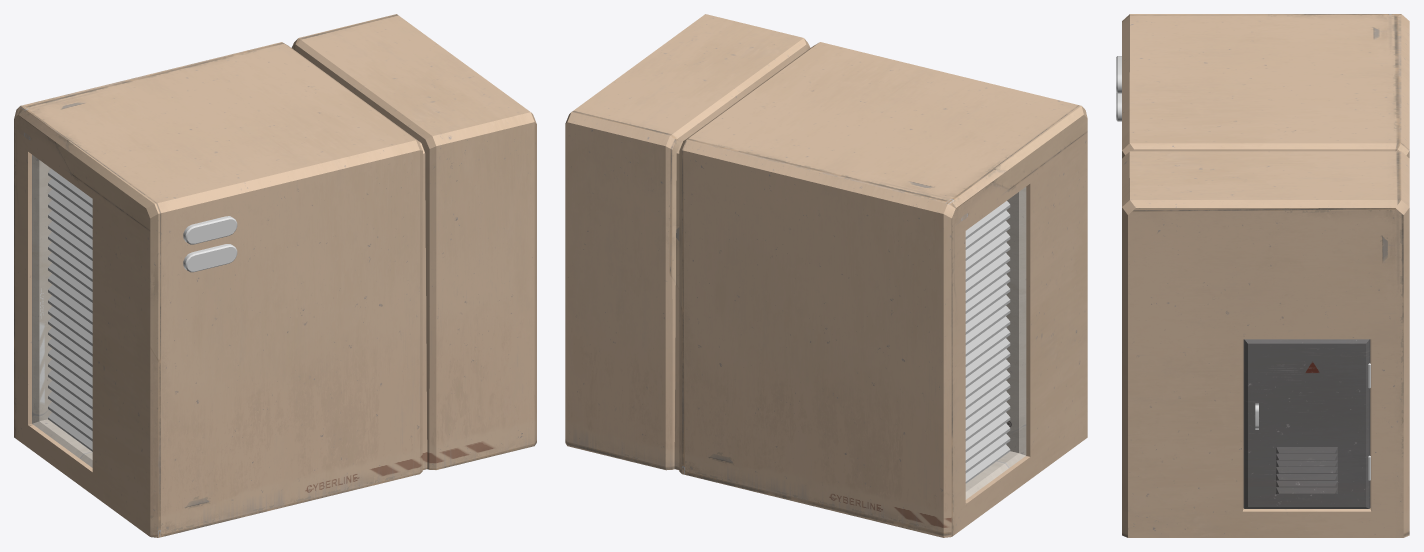
File: KB3D_CBP_UtilityDevice_I.fbx
The picture shows the model from 3 angles, left to right: view 1: azimuth 30°, elevation 25°; view 2: azimuth 150°, elevation 25°; view 3: azimuth 270°, elevation 25°; orthographic projection.
Visible parts, largest first — view 1: KB3D_CBP_UtilityDevice_I_Main; view 2: KB3D_CBP_UtilityDevice_I_Main; view 3: KB3D_CBP_UtilityDevice_I_Main.
Part boxes in pixels (x1,y1,x2,y2): KB3D_CBP_UtilityDevice_I_Main: (14,14,536,537); KB3D_CBP_UtilityDevice_I_Main: (565,14,1087,537); KB3D_CBP_UtilityDevice_I_Main: (1116,14,1409,537).
Bounding box in the file's own units: 232 × 188 × 149.
